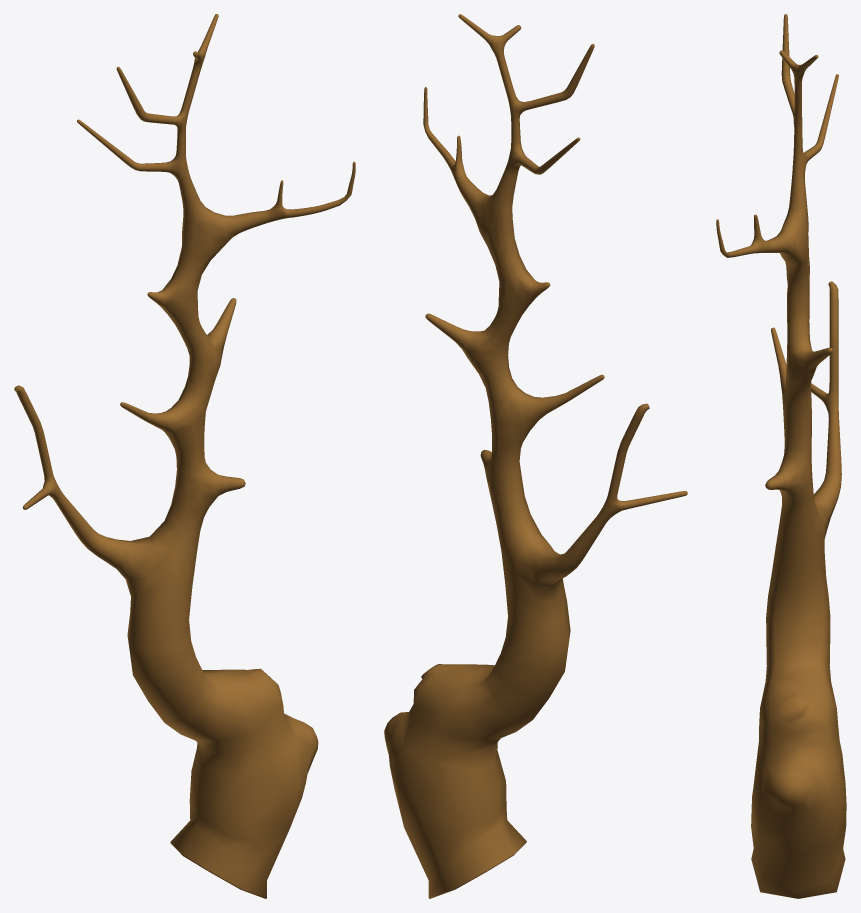
Rendered from FM_Tree_Trunk_04_001.fbx.
3 views of the same model, side by side, from view 1: azimuth 30°, elevation 25°; view 2: azimuth 150°, elevation 25°; view 3: azimuth 270°, elevation 25° (orthographic). The views are drawn at different scales.
Visible parts, largest first — view 1: FM_Tree_Trunk_04_001; view 2: FM_Tree_Trunk_04_001; view 3: FM_Tree_Trunk_04_001.
Boxes of the visible parts, <box> form: FM_Tree_Trunk_04_001: <box>14,14,355,898</box>; FM_Tree_Trunk_04_001: <box>384,14,687,898</box>; FM_Tree_Trunk_04_001: <box>716,14,846,898</box>.
Size of the model in its own units: 1.03 by 2.9 by 0.4108.
